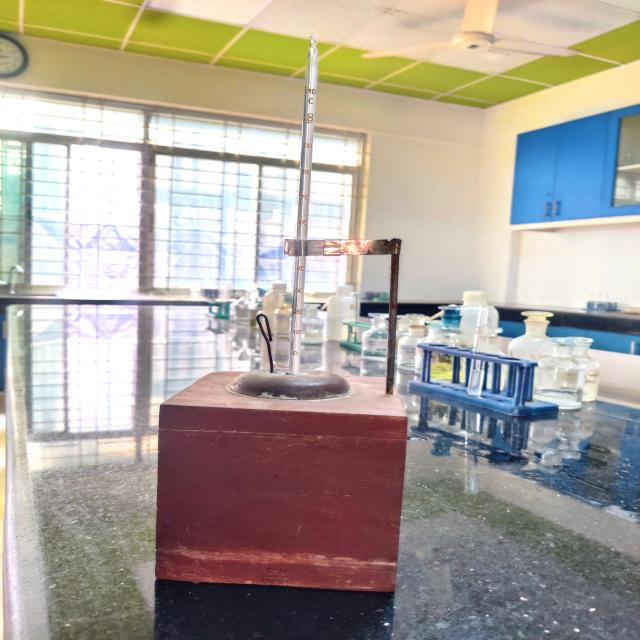Calorimeter: (118, 21, 434, 618)
